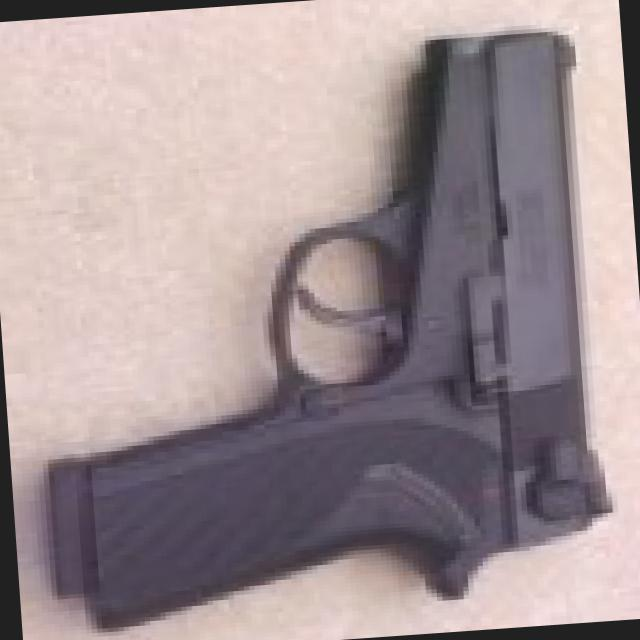handgun: (24, 21, 628, 634)
